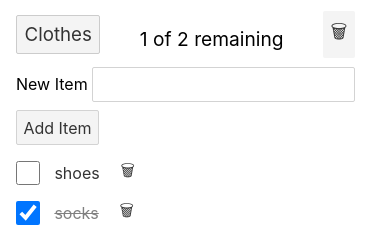
Test: Category › should delete an item
This screenshot has width=372, height=242.
Click the 1st button with test id "delete": (128, 173) 114,153 -> 141,193
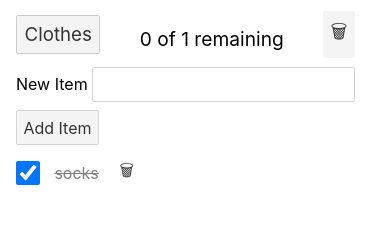
Result: the number of list items is 1 at 16,153 -> 140,193
